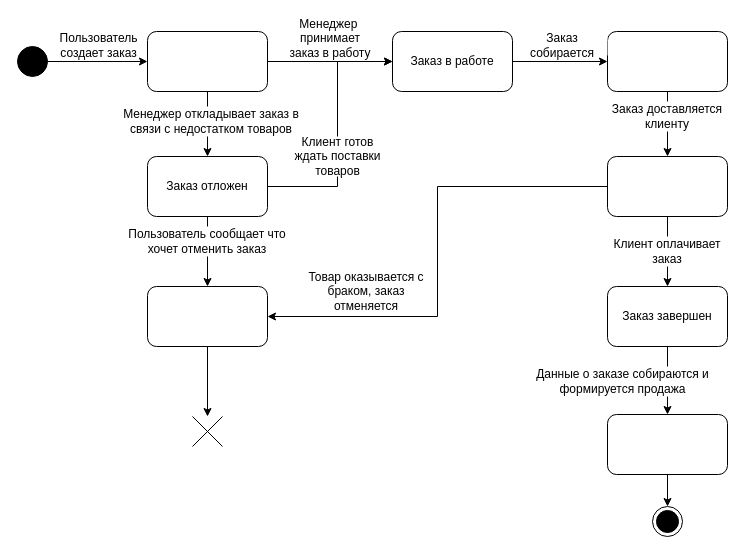
Image size: 755x554. Some labels were removed from this diagram. The shapes that lost their labels are listed below. From the top down, each one's centre as x and y in pixels, then its label:
At (x=207, y=61): "Новый заказ".
At (x=667, y=61): "Заказ в пути".
At (x=667, y=186): "Принят клиентом".
At (x=207, y=316): "Заказ отменен".
At (x=667, y=444): "Продажа".
